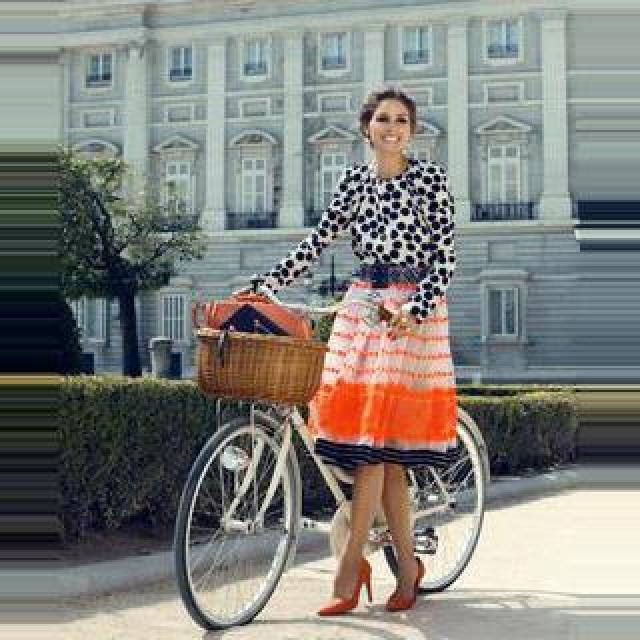MC-Bike: (212, 80, 468, 620)
Person: (171, 316, 479, 624)
